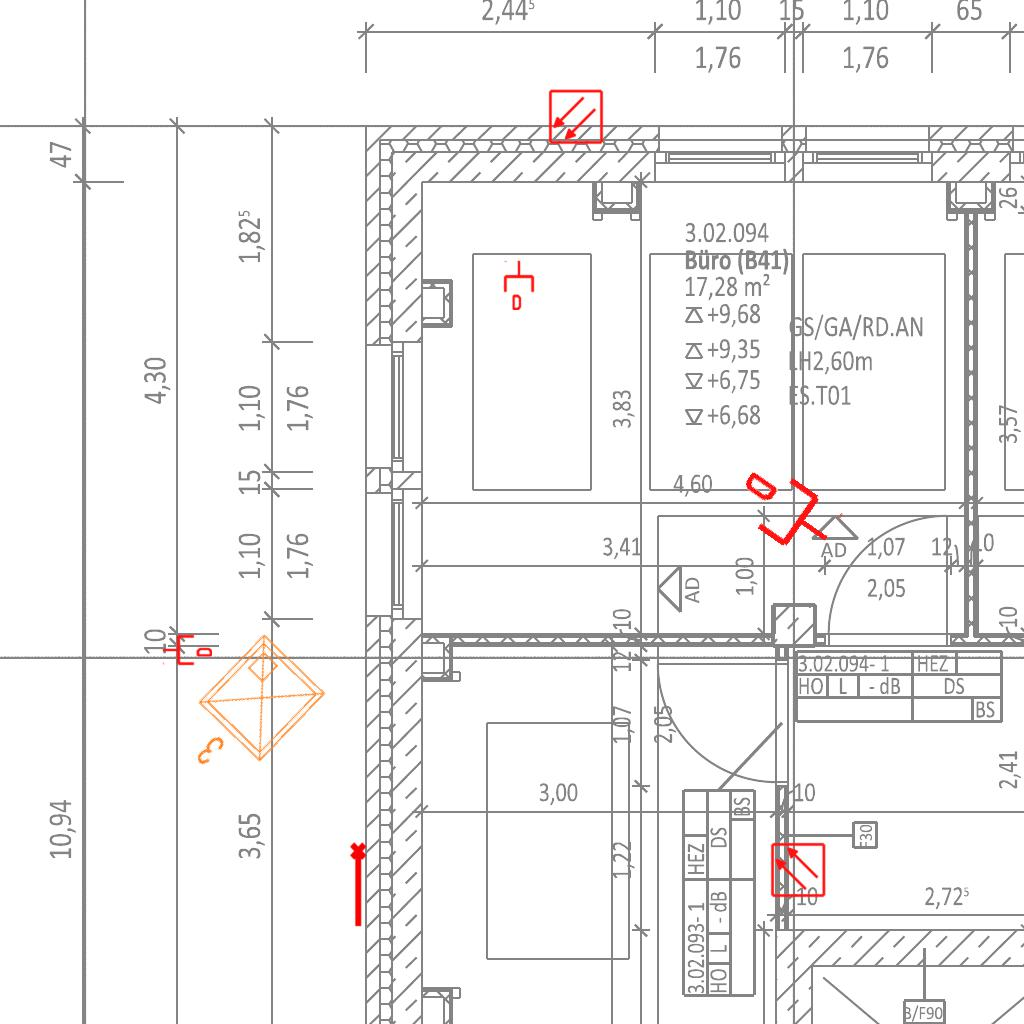ASR_Ansaugoeffnung: (348, 841, 371, 929)
Datenanschluss_einfach: (725, 454, 848, 568), (502, 260, 536, 310), (162, 633, 212, 667)
Einbaudownlights_LED_Konferenzraeume: (159, 623, 339, 805)
RMO_Rauchmelder_optischer: (548, 89, 604, 145), (770, 842, 826, 898)
